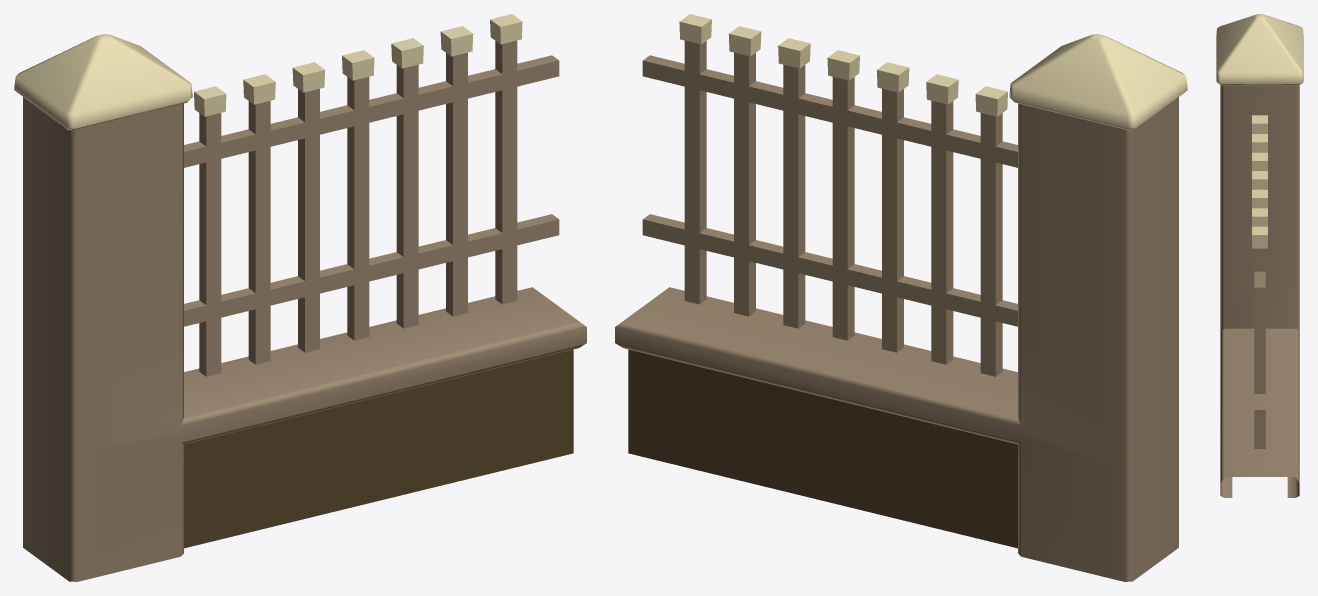
The model's file is TallFence_MDL.fbx.
The picture shows the model from 3 angles, left to right: view 1: azimuth 30°, elevation 25°; view 2: azimuth 150°, elevation 25°; view 3: azimuth 270°, elevation 25°; orthographic projection. The views are drawn at different scales.
Parts seen in each view (by area): view 1: TallFence_GEO; view 2: TallFence_GEO; view 3: TallFence_GEO.
Boxes of the visible parts, left/top/right/bottom form: TallFence_GEO: left=14, top=14, right=586, bottom=581; TallFence_GEO: left=615, top=14, right=1187, bottom=581; TallFence_GEO: left=1216, top=14, right=1303, bottom=497.
Size of the model in its own units: 205 by 193 by 38.61.
